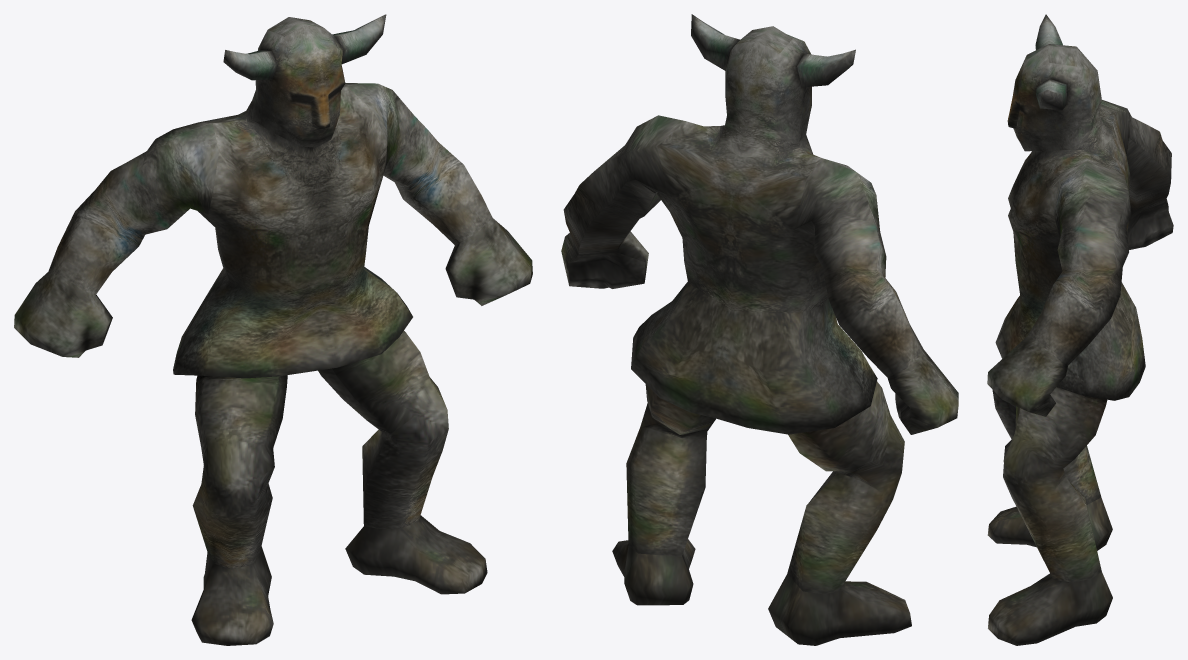
Rendered from Colossus.fbx.
The picture shows the model from 3 angles, left to right: view 1: azimuth 30°, elevation 25°; view 2: azimuth 150°, elevation 25°; view 3: azimuth 270°, elevation 25°; orthographic projection. The views are drawn at different scales.
Parts seen in each view (by area): view 1: Body; view 2: Body; view 3: Body.
Part boxes in pixels (x1,y1,x2,y2): Body: [14, 14, 532, 645]; Body: [561, 14, 958, 645]; Body: [987, 14, 1173, 645].
Bounding box in the file's own units: 1235 × 1522 × 489.
Materials: 1 (1 with a texture image).
